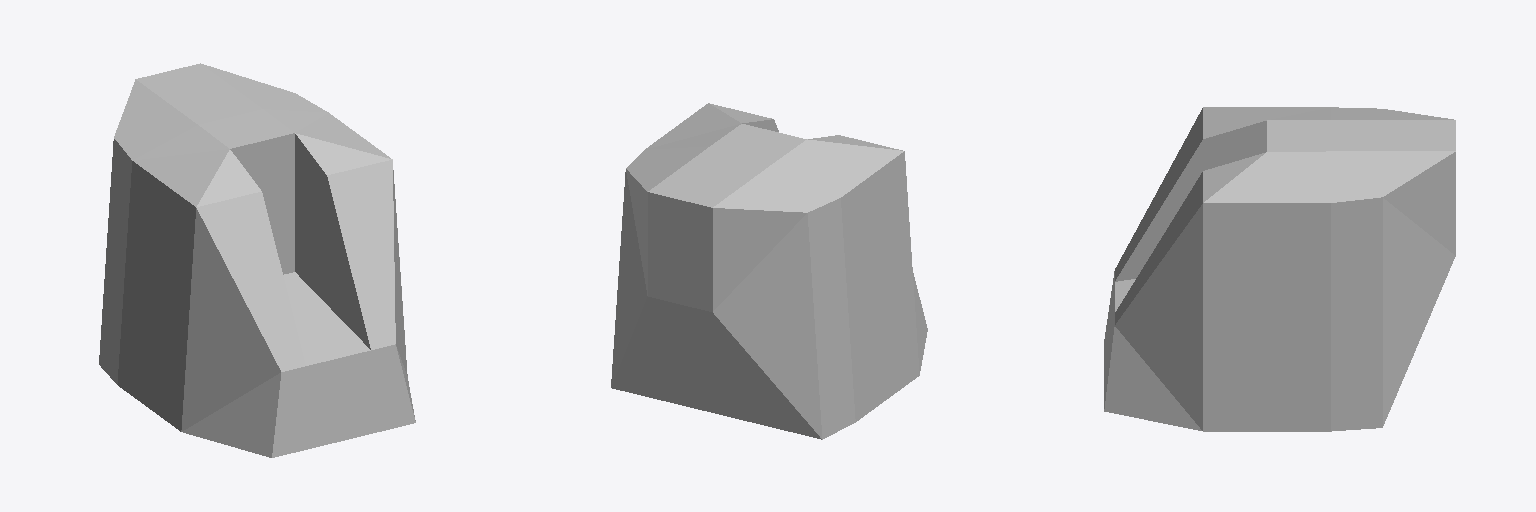
Rendered from mk45_weapon0.obj.
The picture shows the model from 3 angles: view 1: azimuth 30°, elevation 25°; view 2: azimuth 150°, elevation 25°; view 3: azimuth 270°, elevation 25°; orthographic projection.
Visible parts, largest first — view 1: body.002_立方体.003; view 2: body.002_立方体.003; view 3: body.002_立方体.003.
Boxes of the visible parts, box(x1,y1,x2,y2) form: body.002_立方体.003: box(99, 63, 415, 457); body.002_立方体.003: box(611, 103, 927, 439); body.002_立方体.003: box(1104, 107, 1455, 431).
Size of the model in its own units: 3.17 by 3.22 by 4.27.